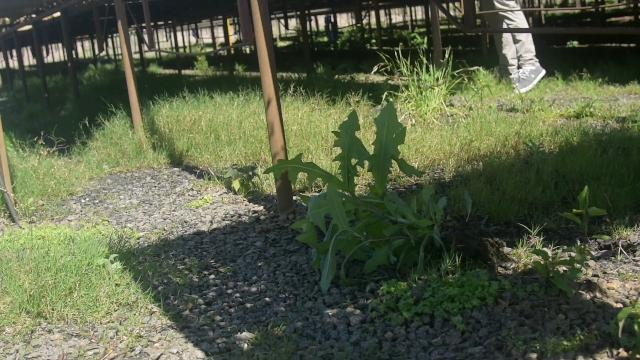MalezaMontesDelPlata: (263, 156, 465, 290), (318, 96, 418, 269), (0, 215, 150, 327), (490, 131, 640, 211), (363, 40, 497, 121), (517, 188, 610, 301), (5, 132, 131, 206), (361, 265, 505, 326), (152, 101, 265, 164)
